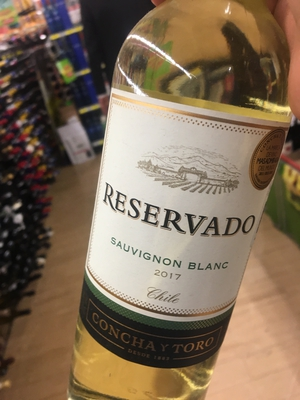reservado sauvignon blanc: (87, 16, 279, 400)
